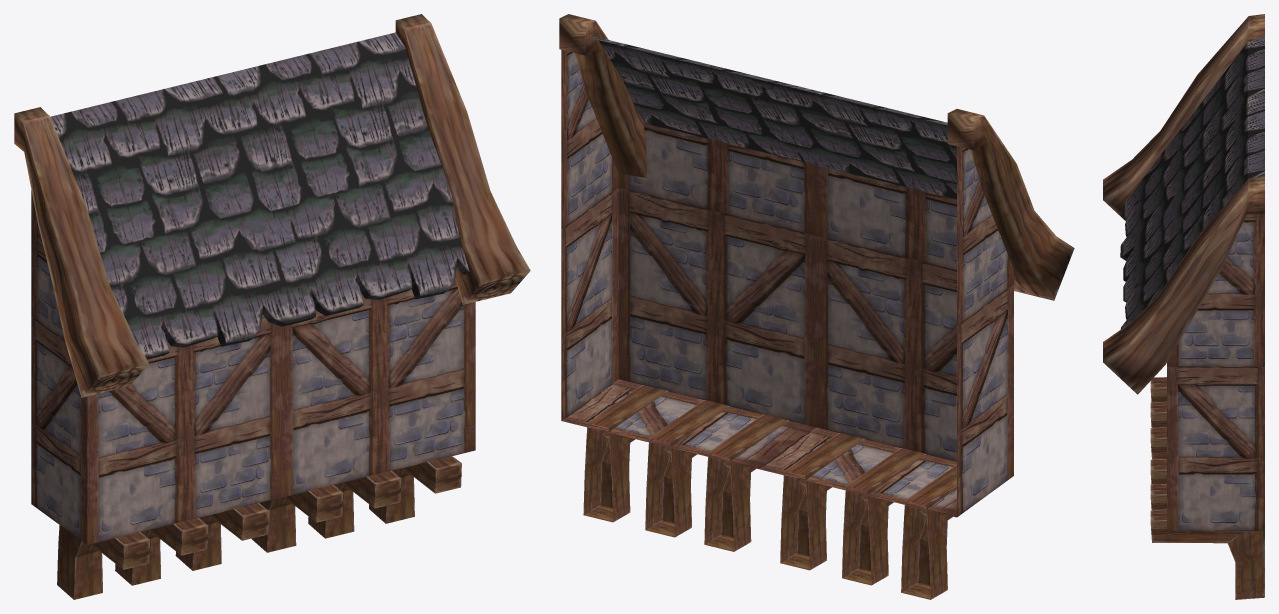
The model's file is wall_roof_tripillar1x2.fbx.
3 views of the same model, side by side, from view 1: azimuth 30°, elevation 25°; view 2: azimuth 150°, elevation 25°; view 3: azimuth 270°, elevation 25° (orthographic). The views are drawn at different scales.
Visible parts, largest first — view 1: wall_roof_tripillar1x2; view 2: wall_roof_tripillar1x2; view 3: wall_roof_tripillar1x2.
Boxes of the visible parts, <box> form: wall_roof_tripillar1x2: <box>14,14,530,599</box>; wall_roof_tripillar1x2: <box>559,14,1074,599</box>; wall_roof_tripillar1x2: <box>1103,14,1264,599</box>.
Size of the model in its own units: 331 by 357 by 124.
